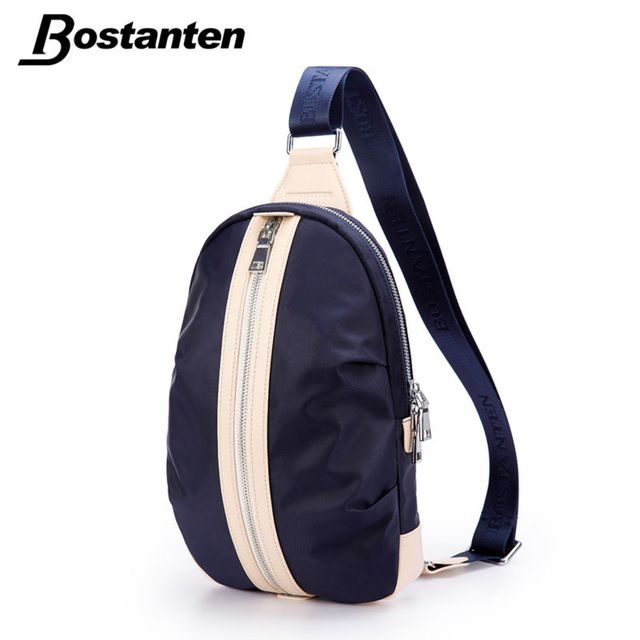nylon: (167, 200, 422, 605)
